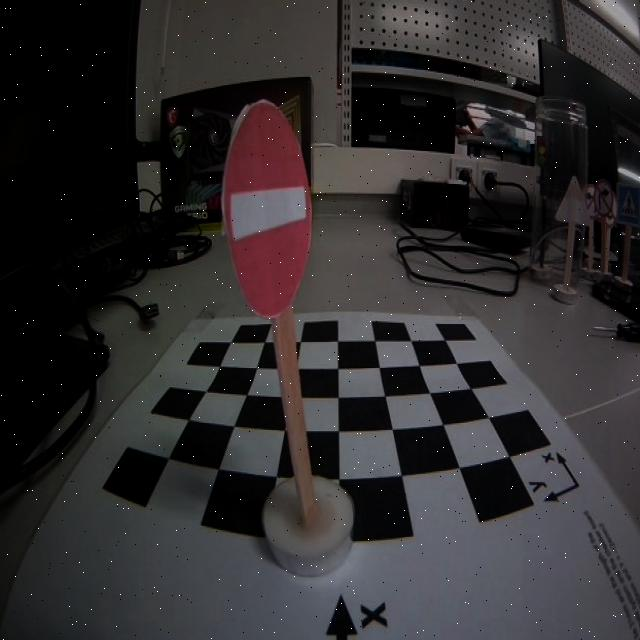Dilarang Masuk: (218, 100, 312, 319)
Rambu Penyebrangan: (616, 182, 640, 226)
